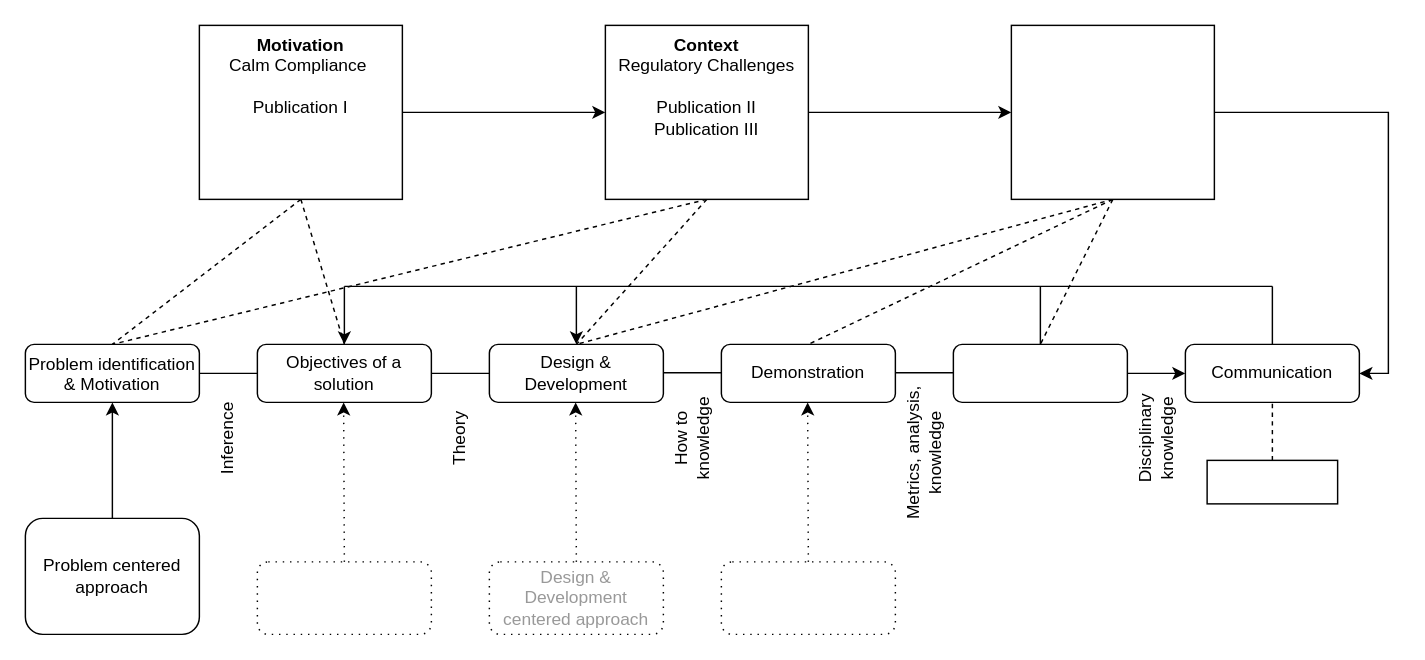
The diagram is 1425 pixels wide and 660 high, and some of its shapes have lost their labels. The shapes that lost their labels are listed below. From the top down, each one's centre as x and y in pixels, then its label:
At point 1112,111: "Realisation Mechanisms and Lifecycle Publication IV Publication V Publication VI".
At point 1039,372: "Evaluation".
At point 1272,481: "Publications I-VI and this dissertation".
At point 343,597: "Objective centered solution".
At point 807,597: "Observing a solution".
